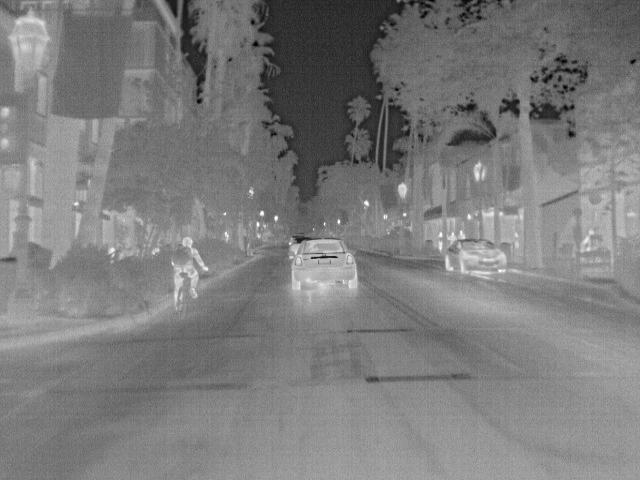car: (288, 237, 360, 293), (443, 237, 508, 278), (285, 234, 312, 262)
person: (171, 236, 210, 306), (445, 232, 458, 244), (453, 229, 466, 241)
